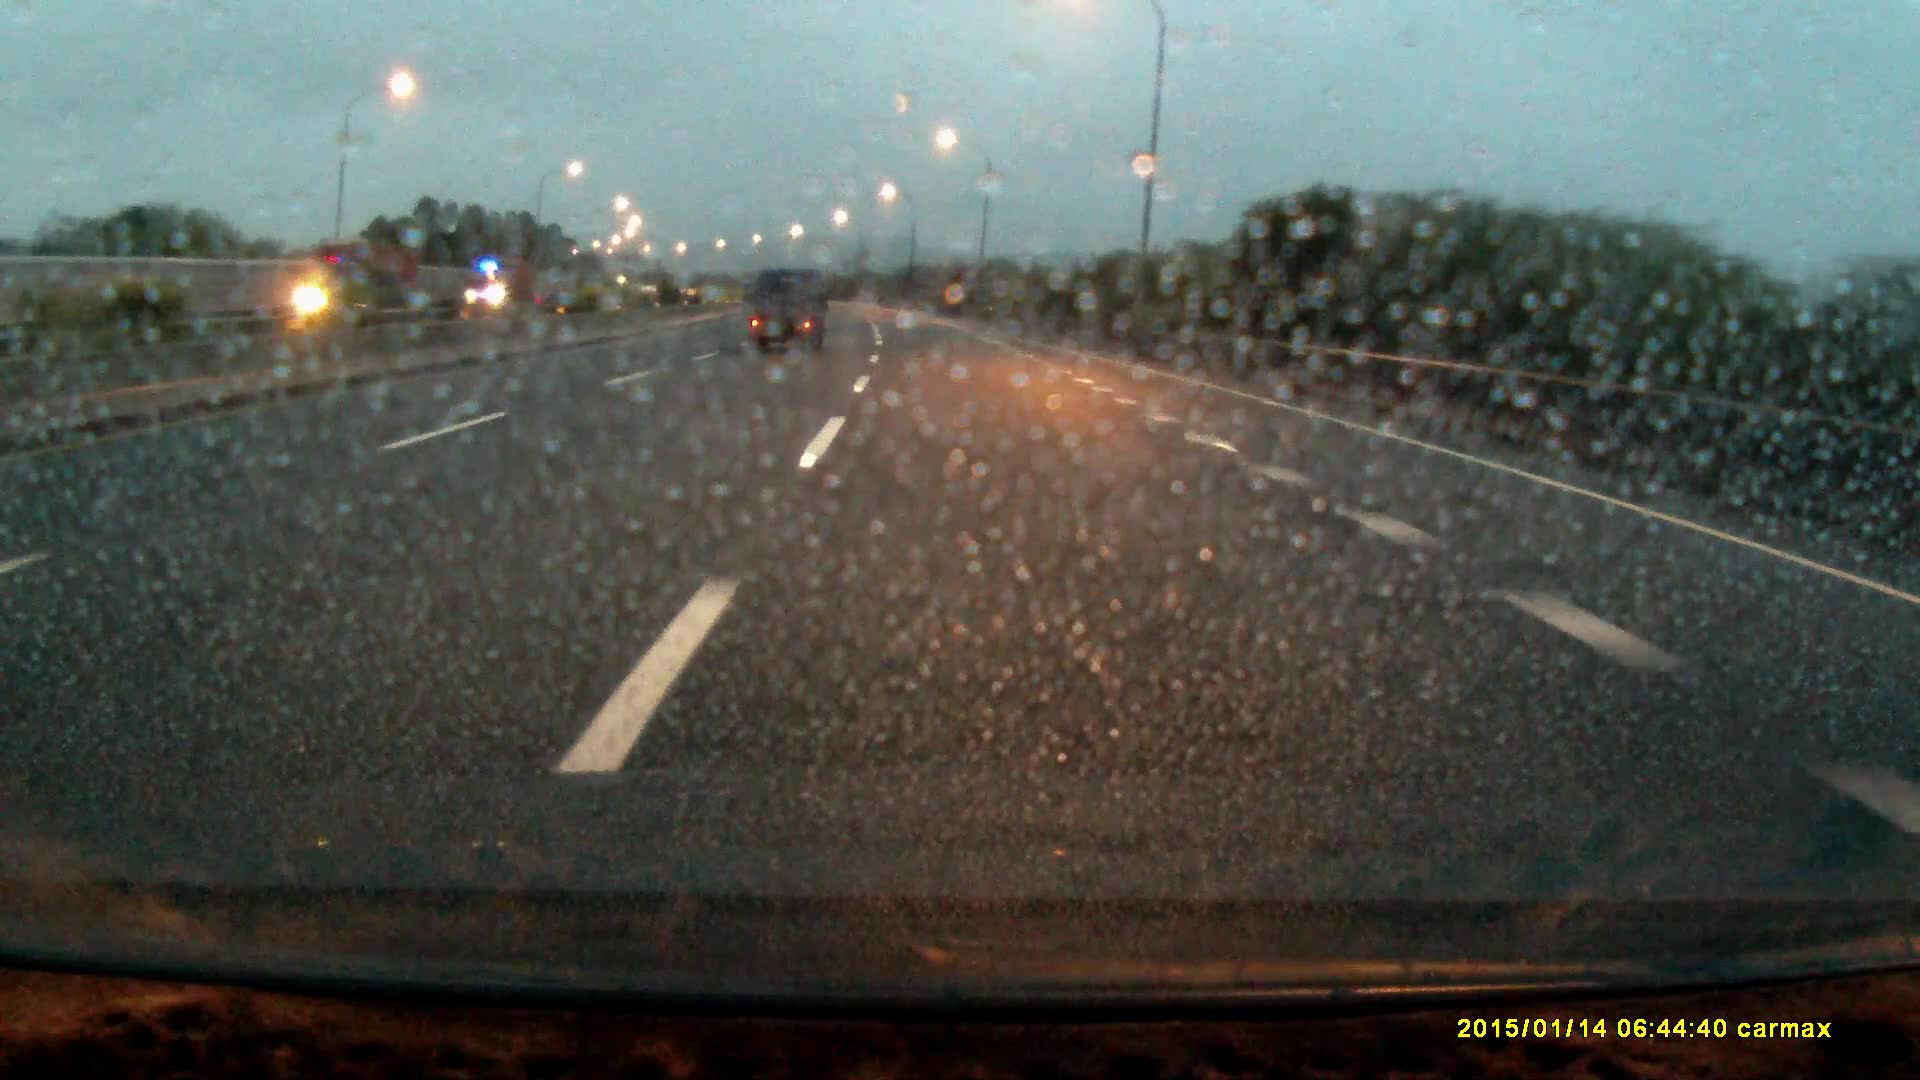vehicle: (289, 248, 425, 327), (745, 270, 825, 360), (462, 258, 538, 316)
